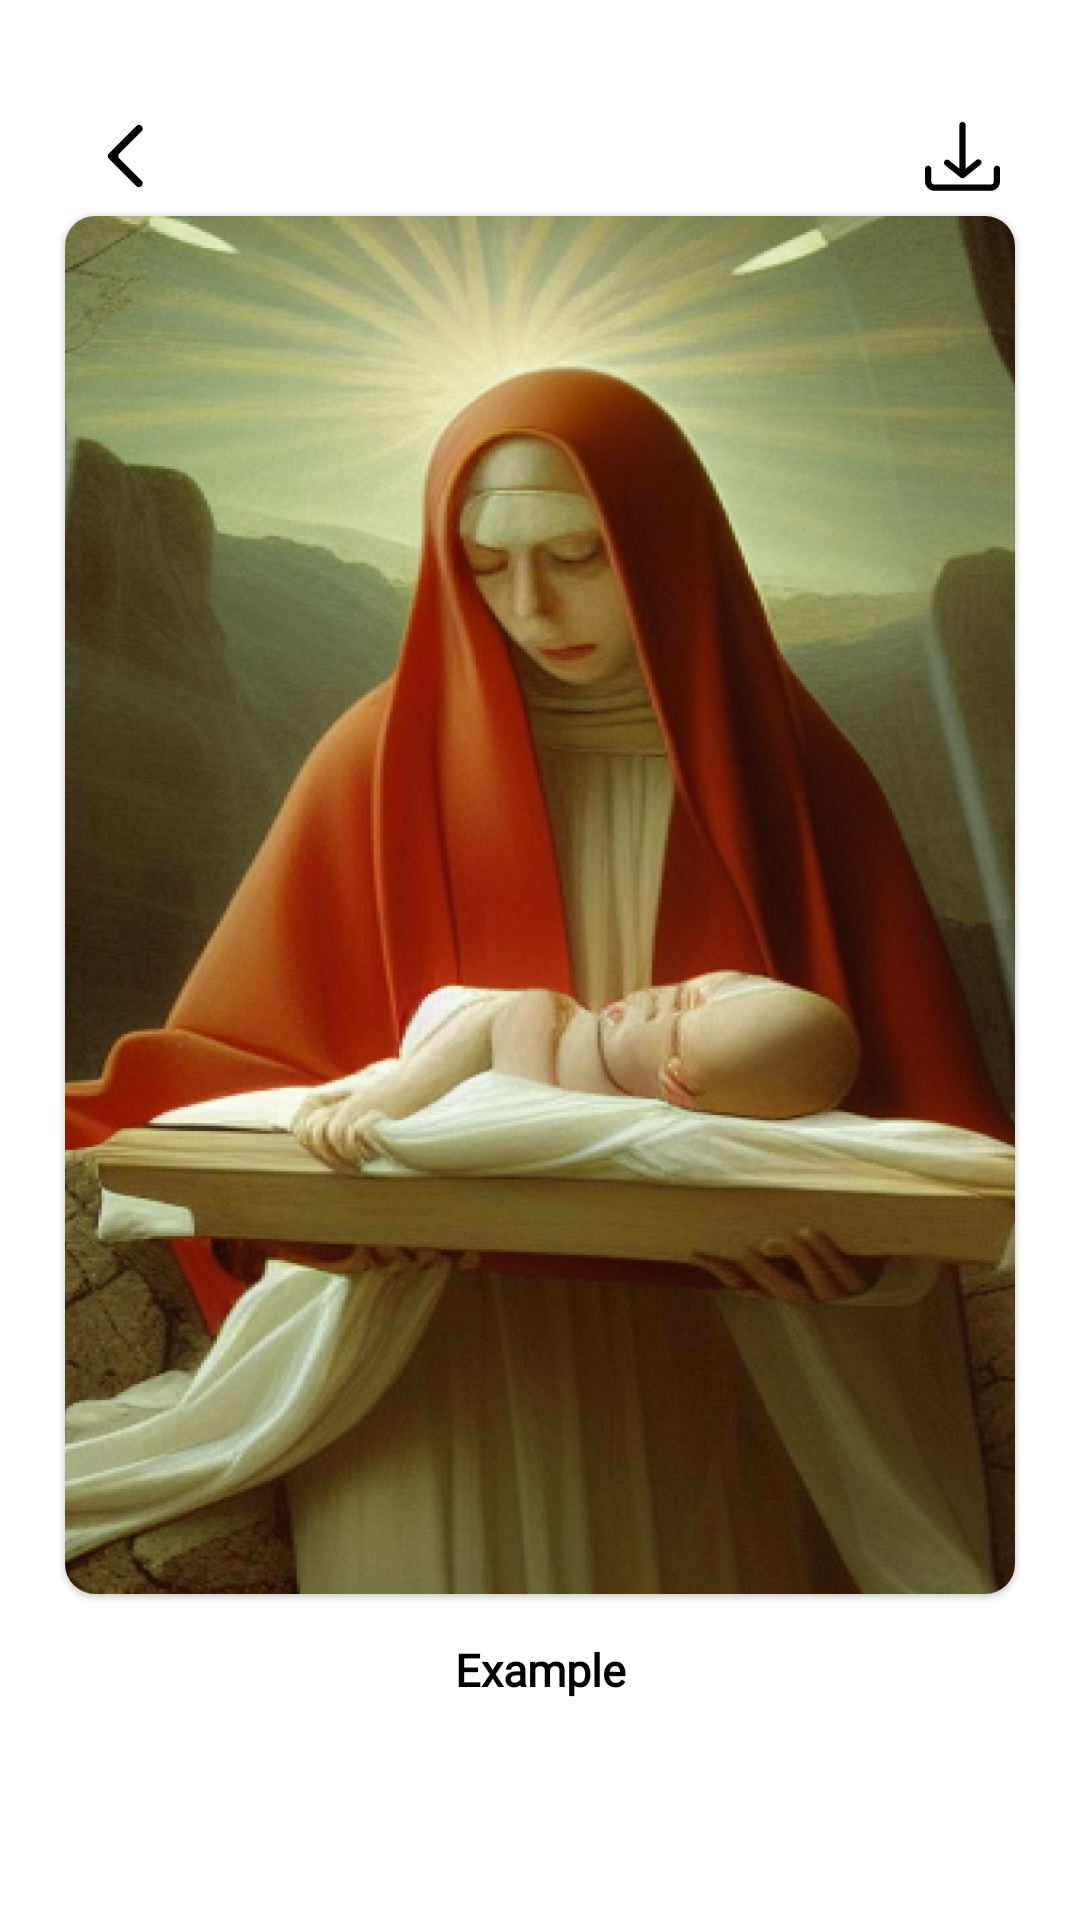

Icons on this 1080*1920 Android screen, each with the point to tap as (x,y):
back: (125,156)
download: (962,156)
